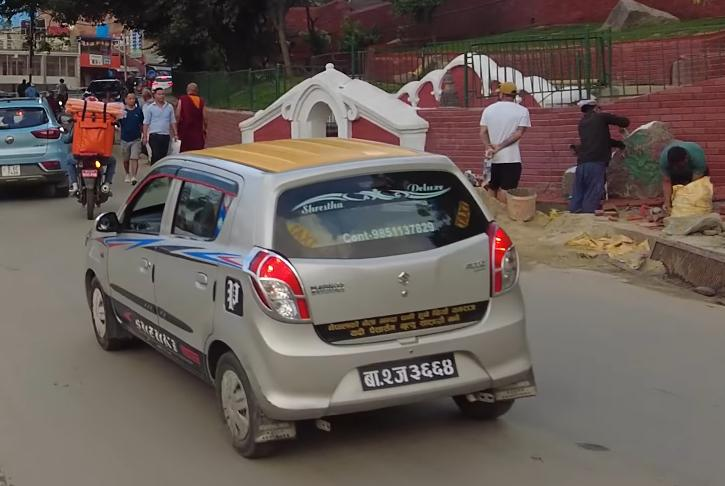bike: (56, 115, 114, 222)
car: (0, 89, 73, 202)
taxi: (80, 129, 555, 468)
